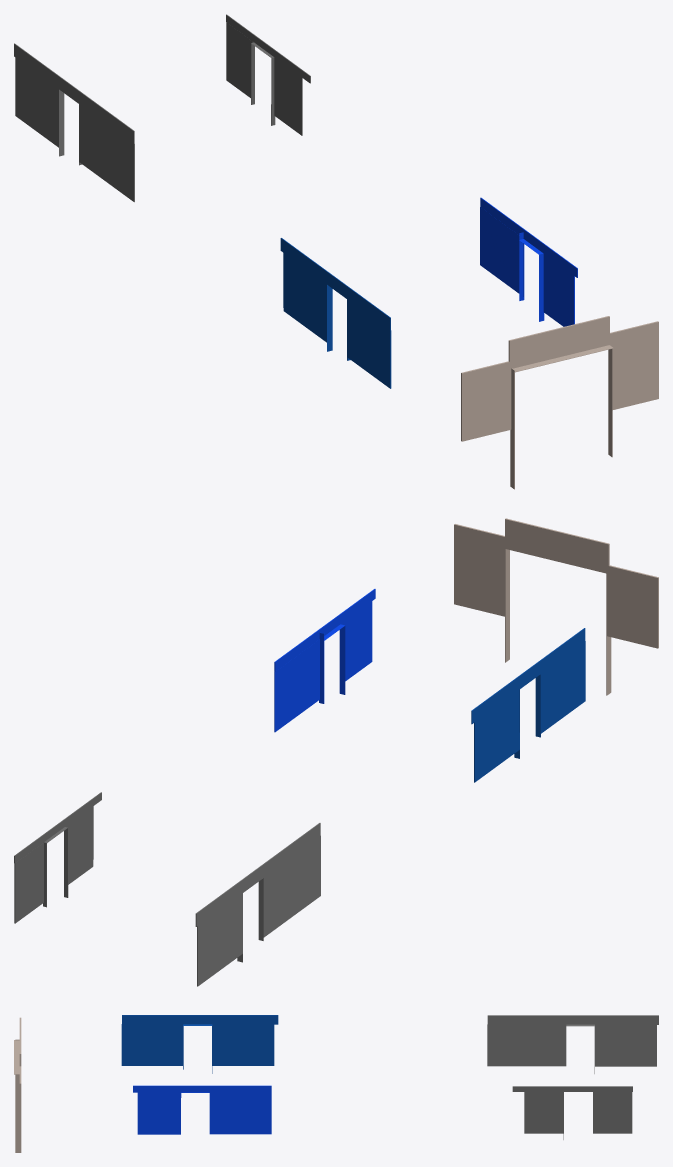
File: FortyWalls.fbx
3 renders of one model, top to bottom at view 1: azimuth 30°, elevation 25°; view 2: azimuth 150°, elevation 25°; view 3: azimuth 270°, elevation 25°, orthographic. The views are drawn at different scales.
Visible parts, largest first — view 1: Cube__1_, Cube, Cube__1__4, Cube__2_, Cube__1__3, Cube_4, Cube_3, Cube__1__2, Cube_2, Cube__2__4, Cube_1, Cube__2__3 (+3 smaller); view 2: Cube__1_, Cube, Cube__1__4, Cube__2_, Cube__1__3, Cube_4, Cube__1__2, Cube_3, Cube__2__4, Cube__1__1, Cube_2, Cube__2__3 (+3 smaller); view 3: Cube__1__4, Cube__1__2, Cube_4, Cube_3, Cube__1__3, Cube_2, Cube__2__4, Cube_1, Cube__1__1, Cube__2__3, Cube__2__2, Cube__2__1 (+1 smaller).
Part boxes in pixels (box(x1,y1,x2,y2)): Cube__1_: box(609, 321, 658, 409); Cube: box(461, 361, 511, 441); Cube__1__4: box(79, 104, 134, 202); Cube__2_: box(508, 316, 609, 368); Cube__1__3: box(347, 300, 391, 388); Cube_4: box(15, 57, 58, 147); Cube_3: box(283, 253, 326, 342); Cube__1__2: box(480, 207, 524, 296); Cube_2: box(543, 254, 574, 326); Cube__2__4: box(14, 43, 134, 143); Cube_1: box(274, 57, 302, 135); Cube__2__3: box(280, 238, 390, 330); Cube__1_: box(454, 524, 504, 616); Cube: box(607, 565, 658, 648); Cube__1__4: box(262, 836, 320, 937); Cube__2_: box(505, 518, 609, 573); Cube__1__3: box(539, 641, 585, 733); Cube_4: box(197, 893, 242, 986); Cube__1__2: box(274, 639, 319, 732); Cube_3: box(474, 690, 519, 782); Cube__2__4: box(195, 823, 320, 926); Cube__1__1: box(14, 842, 43, 923); Cube_2: box(341, 601, 372, 681); Cube__2__3: box(471, 628, 585, 724); Cube__1__4: box(487, 1024, 566, 1066); Cube__1__2: box(209, 1092, 271, 1134); Cube_4: box(595, 1024, 656, 1066); Cube_3: box(212, 1024, 274, 1065); Cube__1__3: box(121, 1024, 183, 1065); Cube_2: box(137, 1092, 180, 1134); Cube__2__4: box(487, 1015, 658, 1024); Cube_1: box(524, 1092, 563, 1133); Cube__1__1: box(593, 1092, 632, 1133); Cube__2__3: box(122, 1015, 278, 1024); Cube__2__2: box(133, 1085, 271, 1092); Cube__2__1: box(512, 1086, 632, 1091).
Bounding box in the file's own units: 590 × 418 × 2333.
